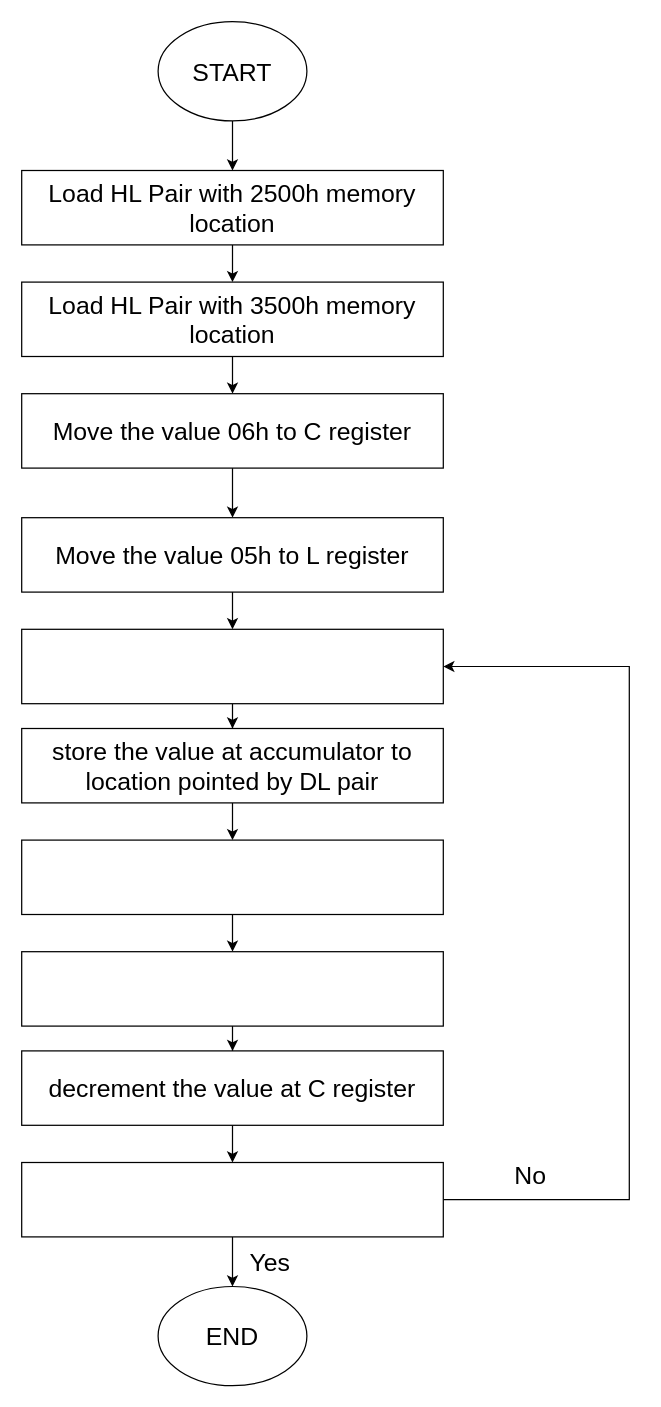
Some shapes in this 661 by 1407 pixel diagram are drawn without their labels. The centre of each missing label's shape, as x and y in pixels:
"is C register zero?" belongs at point 231,1199.
"Move the value at memory address to accumulator" belongs at point 231,666.
"point the destination pointer to the next address" belongs at point 231,876.
"point the source pointer to the previous address" belongs at point 231,988.
